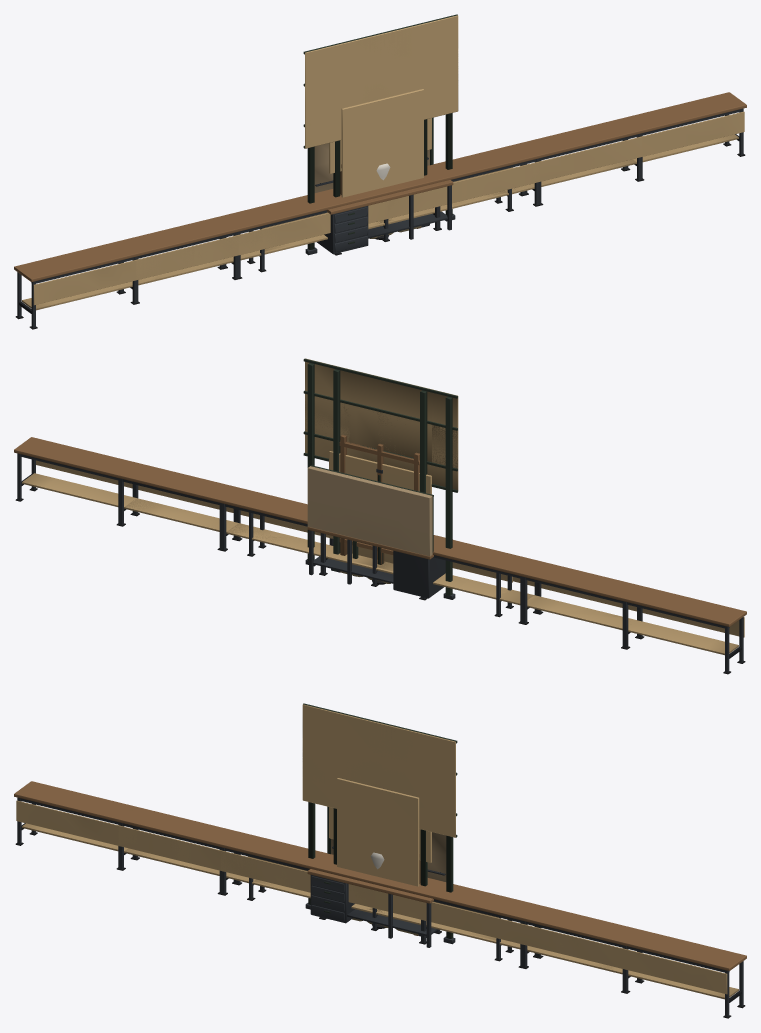
File: range.glb
3 views of the same model, one above another, from view 1: azimuth 30°, elevation 25°; view 2: azimuth 150°, elevation 25°; view 3: azimuth 330°, elevation 25° (orthographic).
Parts seen in each view (by area): view 1: bench-1400x60, bench-1000x60, bench-600x60, target-board, sign-300x320, sign-300x380, sign-200x380, loadout-rack, bench-500x50; view 2: bench-1400x60, loadout-rack, bench-1000x60, sign-200x380, sign-300x380, sign-300x320, bench-600x60, bench-500x50, target-board, signpost; view 3: bench-1400x60, bench-1000x60, target-board, bench-600x60, sign-300x320, sign-300x380, sign-200x380, loadout-rack, bench-500x50.
Boxes of the visible parts, x1=… form: bench-1400x60: x1=14, y1=92, x2=746, y2=329; bench-1000x60: x1=118, y1=117, x2=644, y2=304; bench-600x60: x1=219, y1=142, x2=541, y2=279; target-board: x1=340, y1=89, x2=423, y2=238; sign-300x320: x1=303, y1=48, x2=458, y2=255; sign-300x380: x1=303, y1=14, x2=458, y2=249; sign-200x380: x1=329, y1=20, x2=431, y2=227; loadout-rack: x1=314, y1=117, x2=453, y2=254; bench-500x50: x1=246, y1=149, x2=513, y2=272; bench-1400x60: x1=14, y1=437, x2=746, y2=674; loadout-rack: x1=307, y1=465, x2=445, y2=598; bench-1000x60: x1=116, y1=462, x2=643, y2=648; sign-200x380: x1=329, y1=365, x2=432, y2=572; sign-300x380: x1=303, y1=358, x2=458, y2=595; sign-300x320: x1=303, y1=390, x2=458, y2=599; bench-600x60: x1=219, y1=487, x2=541, y2=623; bench-500x50: x1=246, y1=494, x2=514, y2=617; target-board: x1=339, y1=434, x2=419, y2=583; signpost: x1=329, y1=451, x2=431, y2=564; bench-1400x60: x1=14, y1=781, x2=746, y2=1018; bench-1000x60: x1=116, y1=806, x2=642, y2=993; target-board: x1=337, y1=778, x2=420, y2=935; bench-600x60: x1=219, y1=831, x2=541, y2=967; sign-300x320: x1=302, y1=737, x2=457, y2=944; sign-300x380: x1=302, y1=703, x2=457, y2=938; sign-200x380: x1=329, y1=709, x2=430, y2=937; loadout-rack: x1=307, y1=806, x2=446, y2=947; bench-500x50: x1=247, y1=838, x2=514, y2=961.
Size of the model in its own units: 14 by 3.8 by 0.82.
